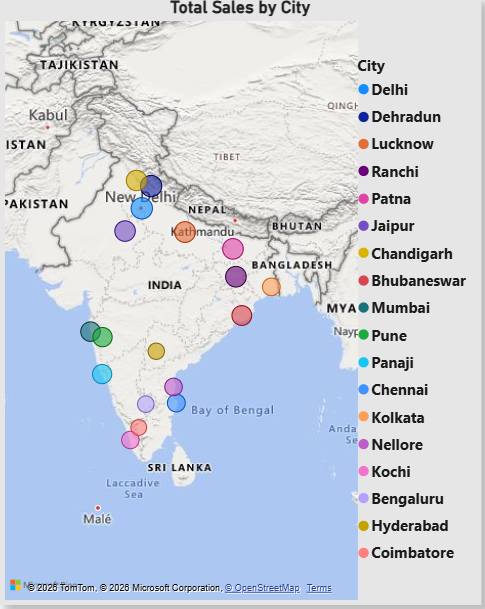

This screenshot's page, from the dashboard's own definition file:
{"tool":"powerbi","page":{"name":"Page 3","canvas":[1280,720],"ordinal":1},"visuals":[{"type":"map","title":"Total Sales by City ","fields":{"Category":["Sheet1.City"],"Series":["Sheet1.City"],"Size":["Sum(Sheet1.Total Sales)"]},"box":[106.7,17.5,470.8,595],"z":0}]}

Visuals, with their boxes on the page's 1280x720 design canvas (x1, y1, x2, y2). These are canvas units, not pixel positions in the 485x609 screenshot, which may show the page scaled, cropped or inside an application window:
"Total Sales by City " map: Rect(107, 18, 578, 612)
